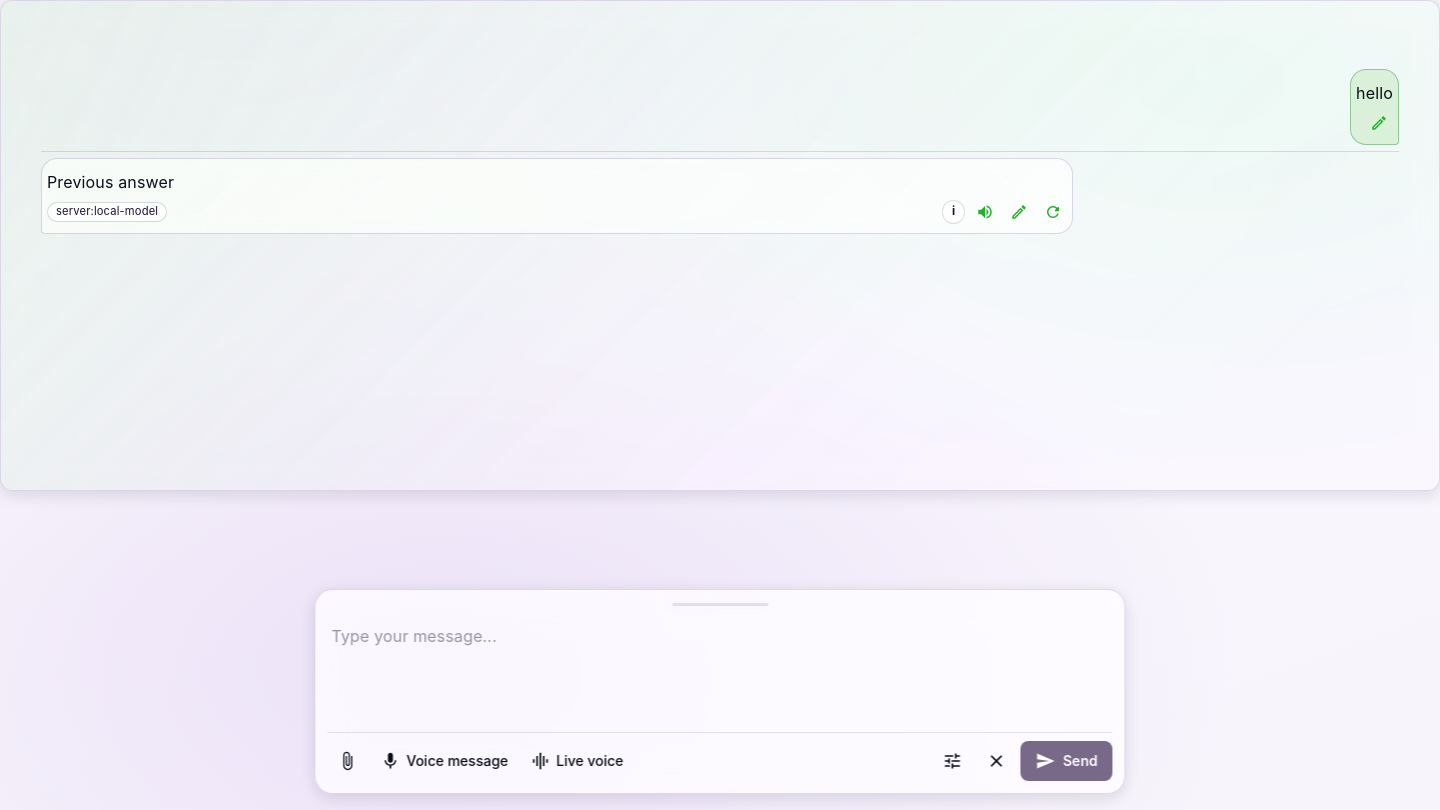
Test: Chat request lifecycle › does not clear b's newer error when A's stopped regeneration rejects late
The width and height of the screenshot is (1440, 810).
Click the button named "Regenerate response" at (1053, 212), box x1=1039 y1=198 x2=1067 y2=226
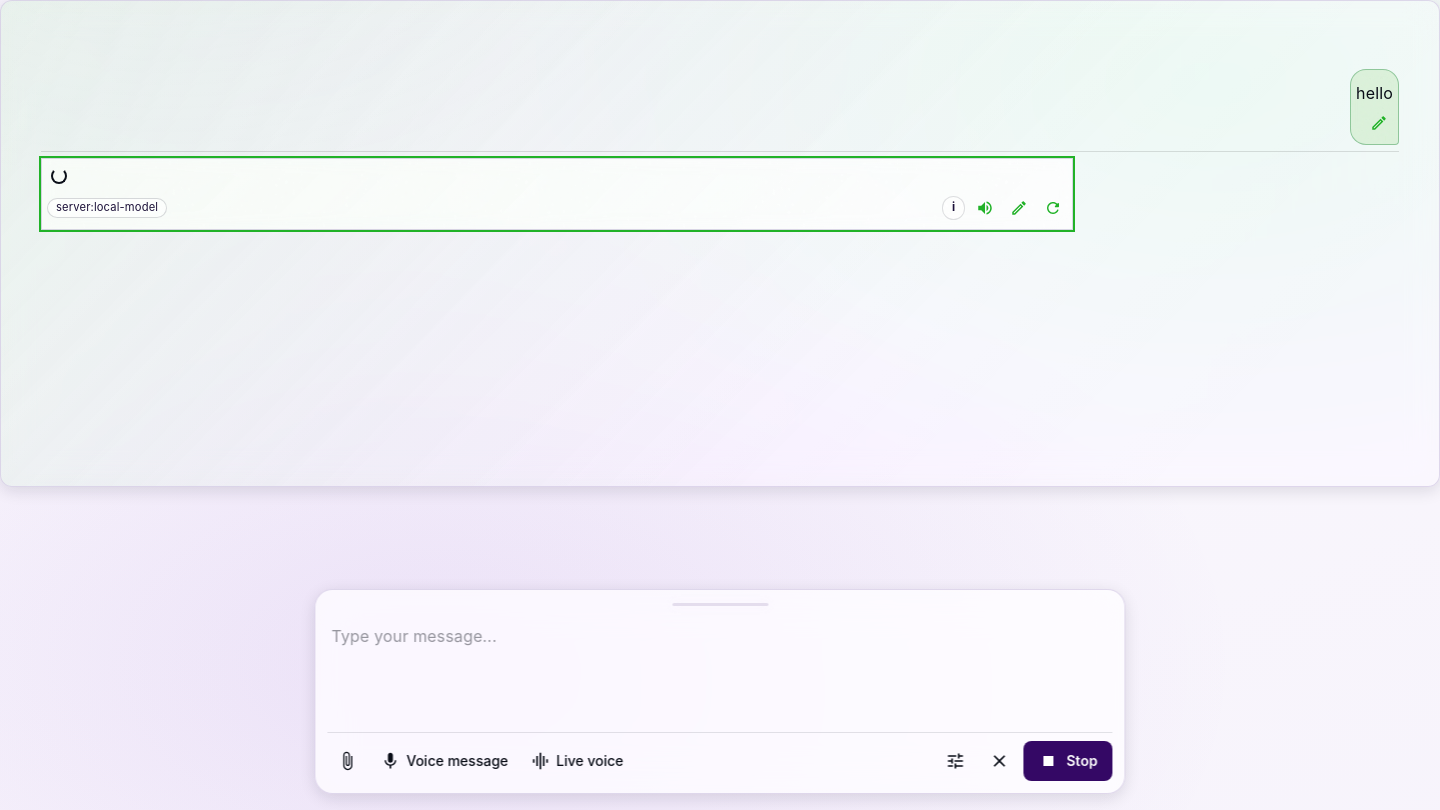
Click the button with aria-label "stop generation" at (1068, 761), box x1=1023 y1=741 x2=1113 y2=781
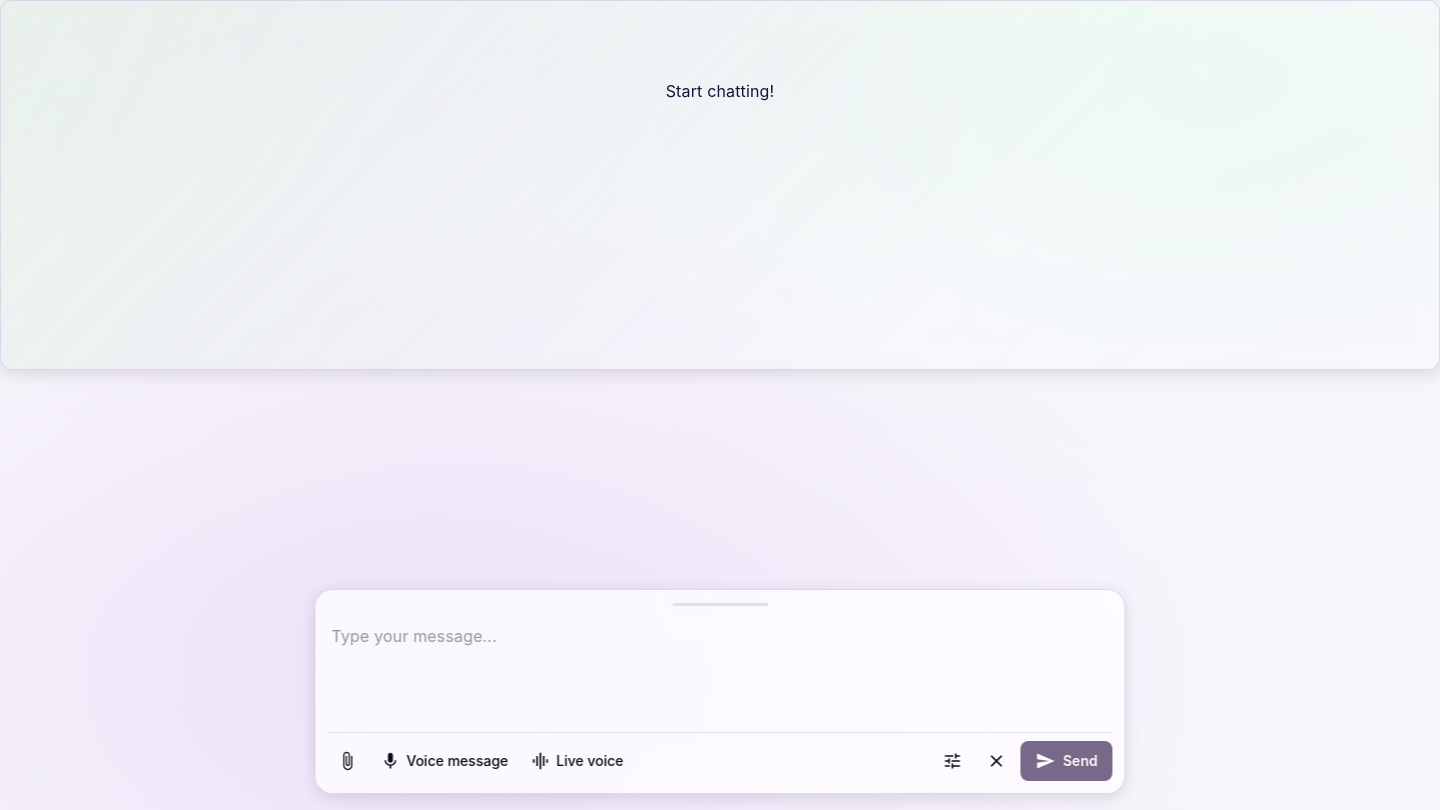
Type "message b" into the text box at (720, 672), box x1=331 y1=624 x2=1109 y2=720
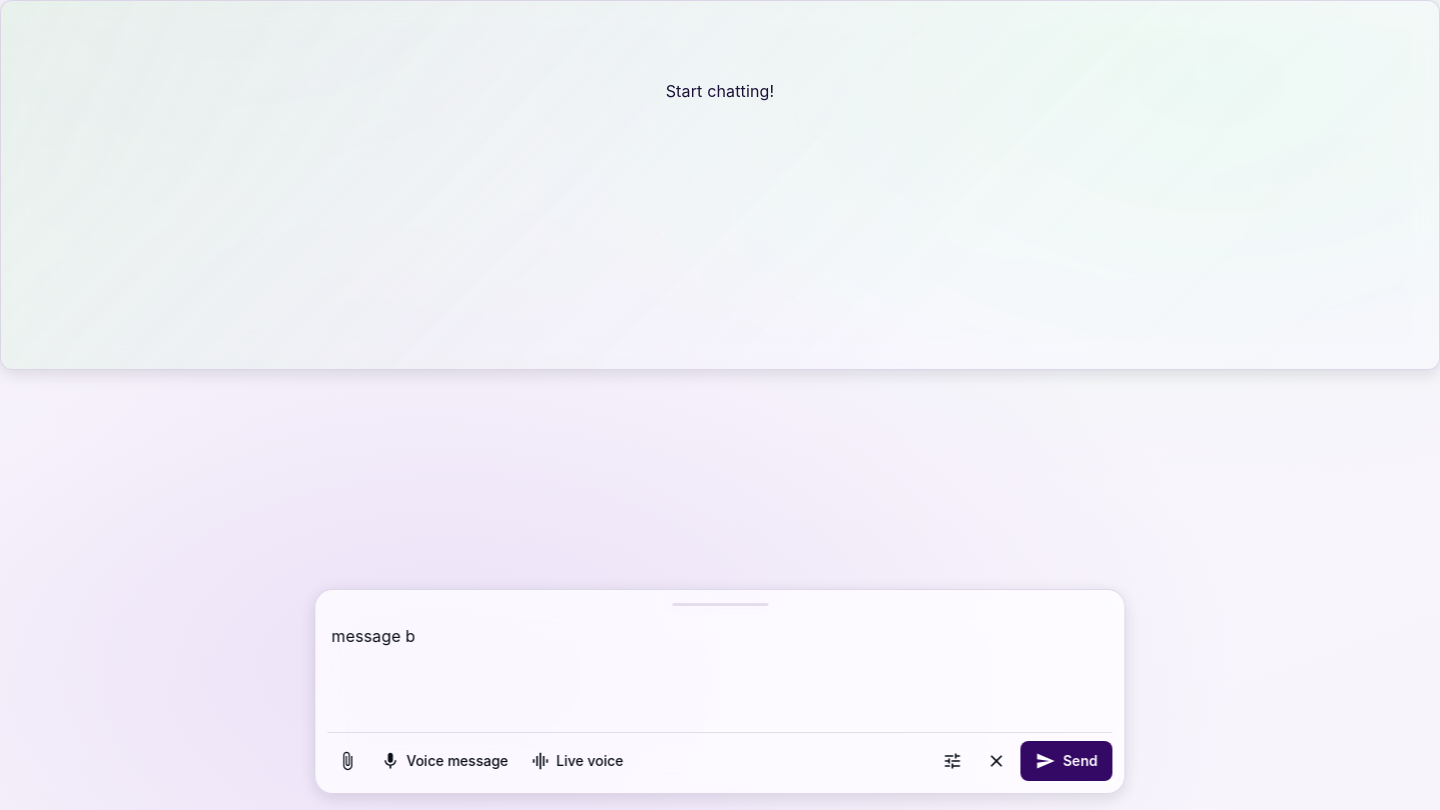
Click the button with aria-label "send message" at (1066, 761), box x1=1020 y1=741 x2=1113 y2=781
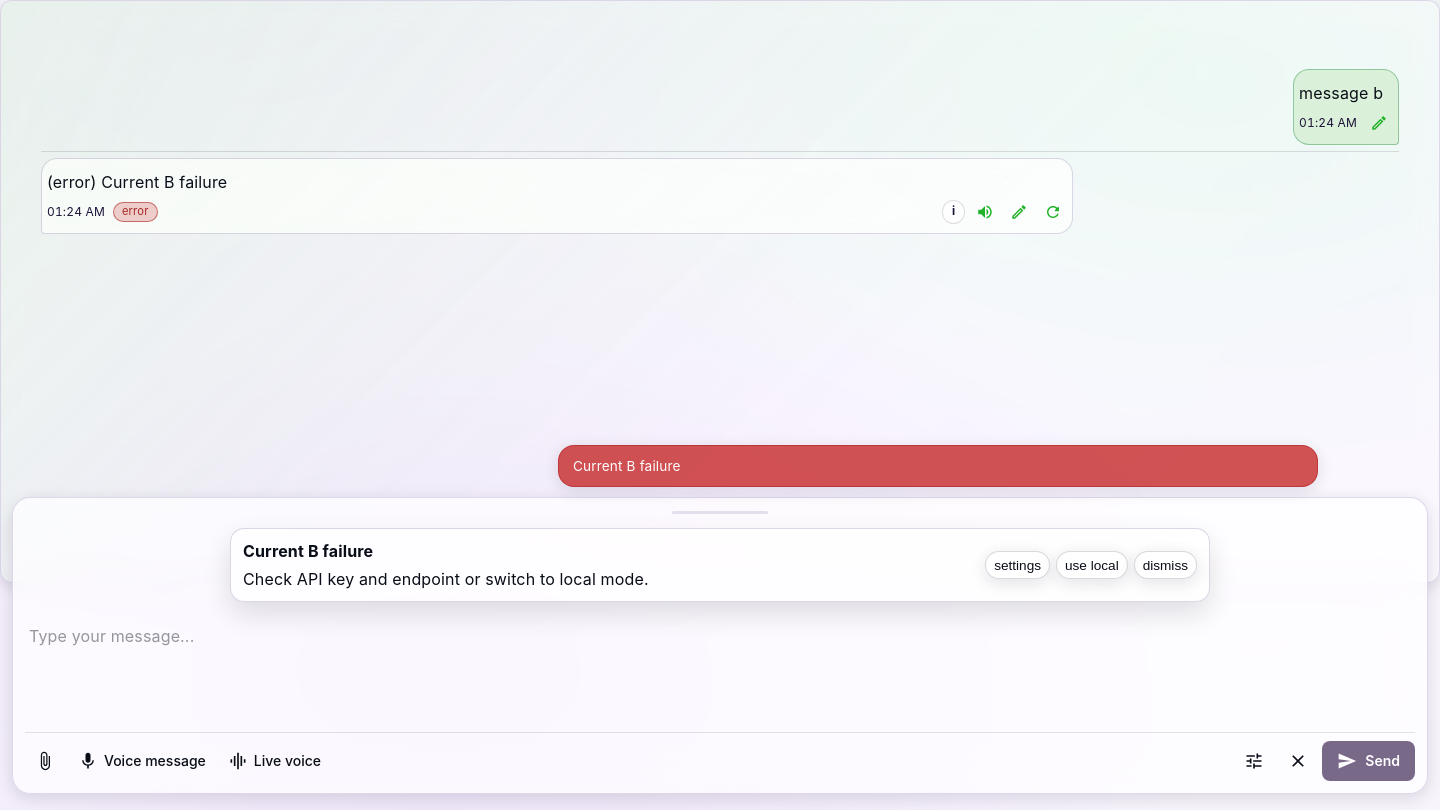
expect the text "Current B failure" is shown: met, box x1=243 y1=539 x2=373 y2=563
